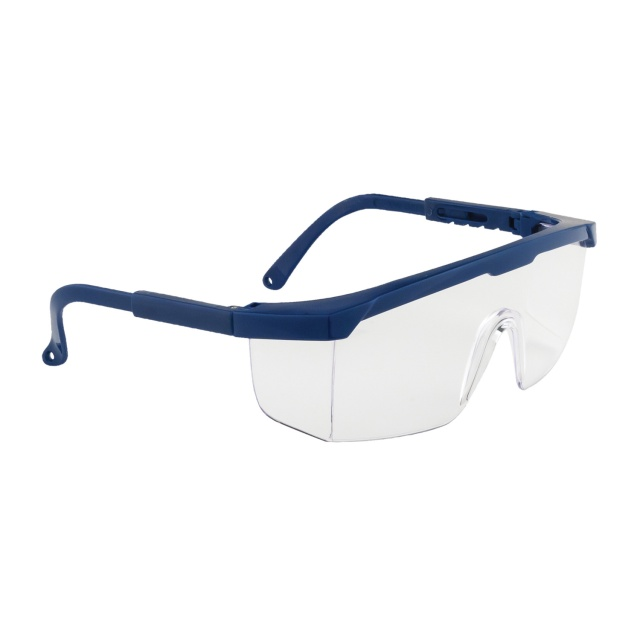Safety_Goggles: (55, 192, 613, 426)
